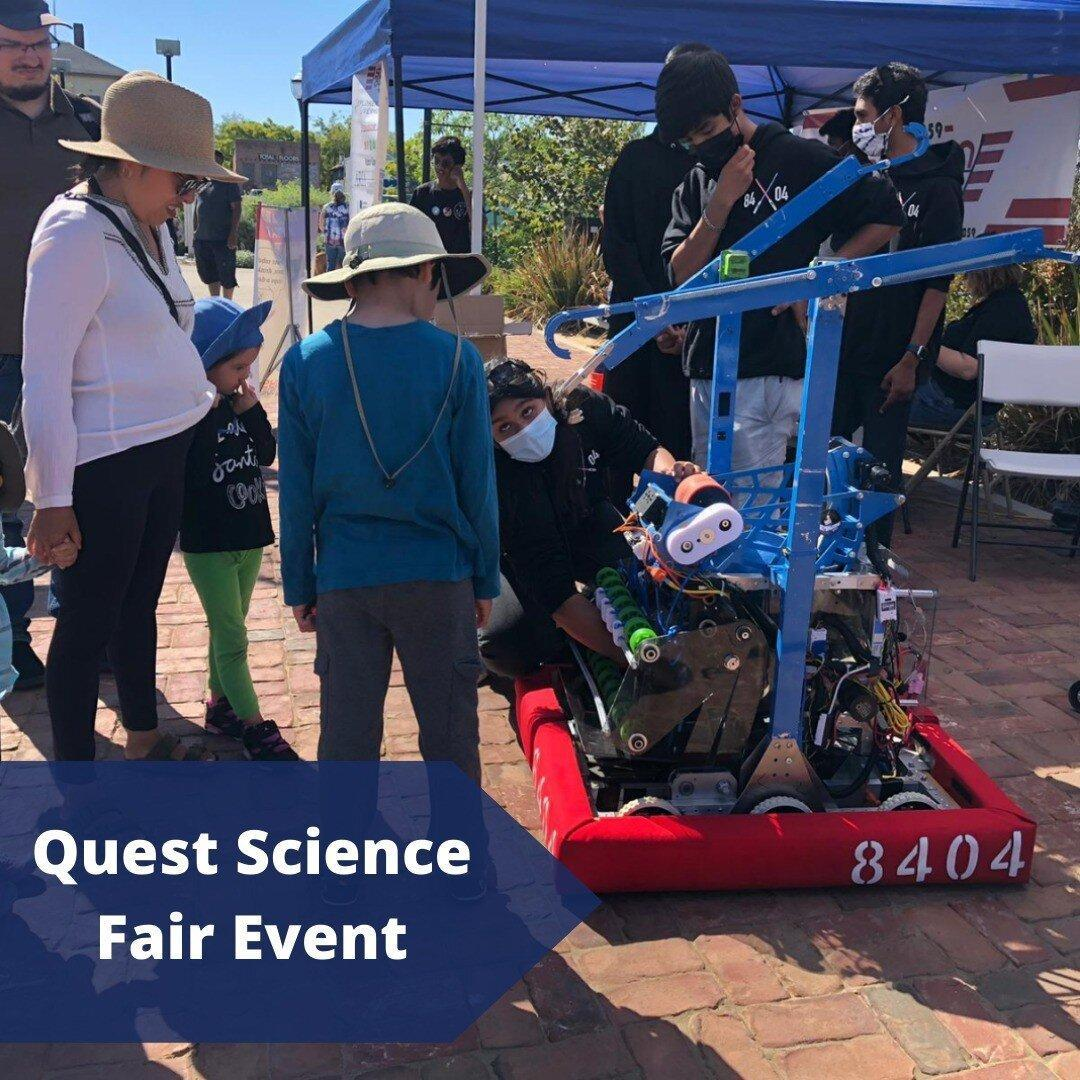robot: (505, 122, 1080, 900)
